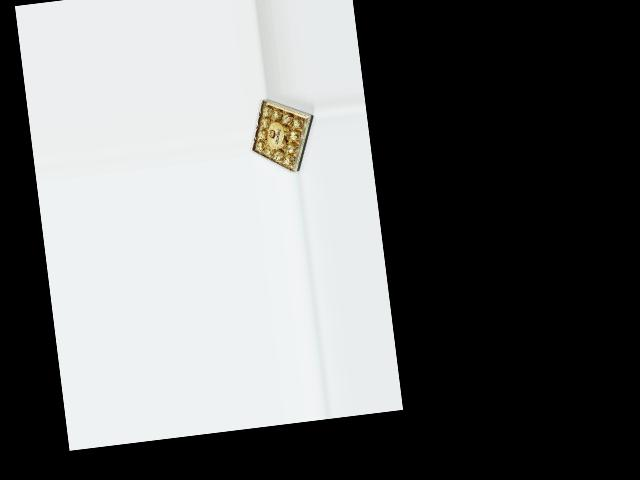chocolate: (244, 92, 321, 178)
